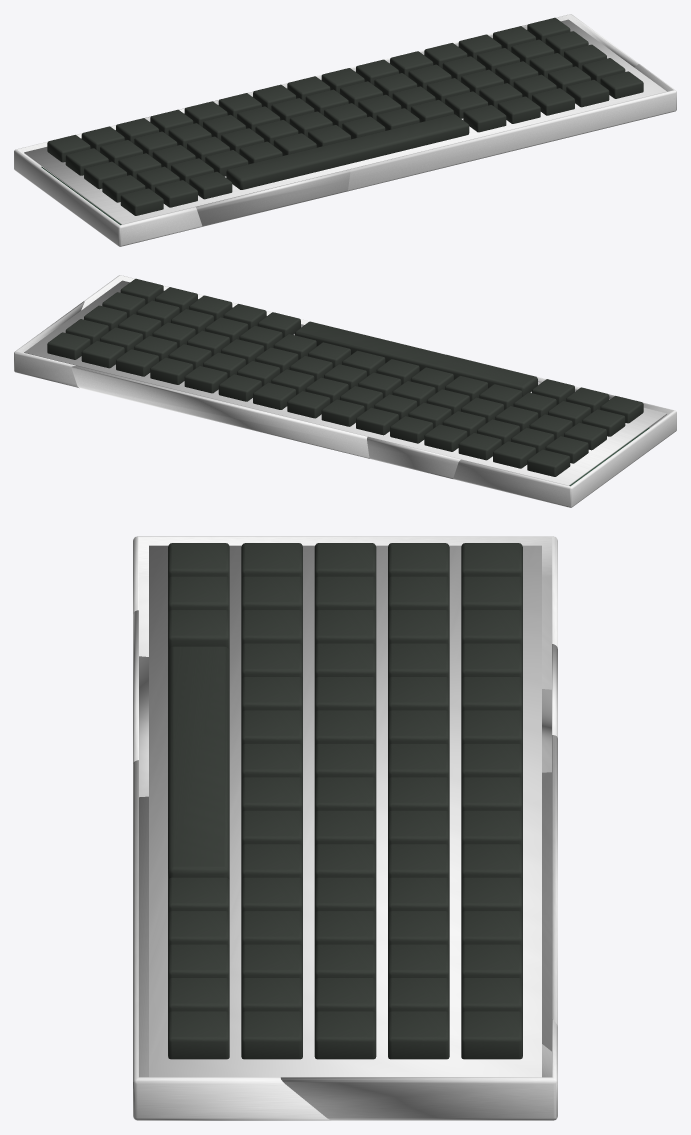
File: fragments.glb
3 renders of one model, top to bottom at view 1: azimuth 30°, elevation 25°; view 2: azimuth 150°, elevation 25°; view 3: azimuth 270°, elevation 25°, orthographic. The views are drawn at different scales.
Parts seen in each view (by area): view 1: fragment-003-black, fragment-006-black, fragment-076-keys, fragment-001-black, fragment-000-black, fragment-068-keys, fragment-071-keys, fragment-070-keys, fragment-075-keys, fragment-072-keys, fragment-074-keys, fragment-069-keys (+62 smaller); view 2: fragment-005-black, fragment-006-black, fragment-001-black, fragment-076-keys, fragment-000-black, fragment-004-black, fragment-008-keys, fragment-015-keys, fragment-010-keys, fragment-011-keys, fragment-012-keys, fragment-014-keys (+63 smaller); view 3: fragment-006-black, fragment-076-keys, fragment-003-black, fragment-004-black, fragment-001-black, fragment-005-black, fragment-000-black, fragment-052-keys, fragment-022-keys, fragment-075-keys, fragment-037-keys, fragment-067-keys (+63 smaller).
Part boxes in pixels (x1,y1,x2,y2): fragment-003-black: [347, 64, 676, 191]; fragment-006-black: [24, 19, 666, 224]; fragment-076-keys: [226, 114, 469, 189]; fragment-001-black: [14, 125, 202, 246]; fragment-000-black: [144, 100, 350, 226]; fragment-068-keys: [120, 188, 163, 215]; fragment-071-keys: [463, 105, 506, 132]; fragment-070-keys: [189, 171, 232, 199]; fragment-075-keys: [600, 71, 643, 98]; fragment-072-keys: [497, 96, 540, 123]; fragment-074-keys: [566, 80, 609, 107]; fragment-069-keys: [155, 180, 197, 207]; fragment-005-black: [71, 365, 369, 458]; fragment-006-black: [24, 280, 666, 485]; fragment-001-black: [453, 394, 676, 507]; fragment-076-keys: [295, 321, 537, 396]; fragment-000-black: [367, 354, 580, 478]; fragment-004-black: [14, 301, 84, 387]; fragment-008-keys: [527, 449, 570, 476]; fragment-015-keys: [287, 391, 330, 418]; fragment-010-keys: [458, 432, 501, 460]; fragment-011-keys: [424, 424, 467, 451]; fragment-012-keys: [390, 416, 433, 443]; fragment-014-keys: [321, 399, 364, 426]; fragment-006-black: [149, 545, 541, 1077]; fragment-076-keys: [168, 646, 229, 881]; fragment-003-black: [133, 760, 330, 1120]; fragment-004-black: [281, 1019, 557, 1120]; fragment-001-black: [133, 536, 557, 689]; fragment-005-black: [542, 735, 557, 1051]; fragment-000-black: [133, 610, 557, 797]; fragment-052-keys: [314, 1011, 376, 1059]; fragment-022-keys: [461, 1011, 522, 1059]; fragment-075-keys: [168, 1011, 229, 1059]; fragment-037-keys: [388, 1011, 449, 1059]; fragment-067-keys: [241, 1011, 302, 1059].
Bounding box in the file's own units: 0.44 × 0.0225 × 0.145.
Materials: 3 (3 with a texture image).
